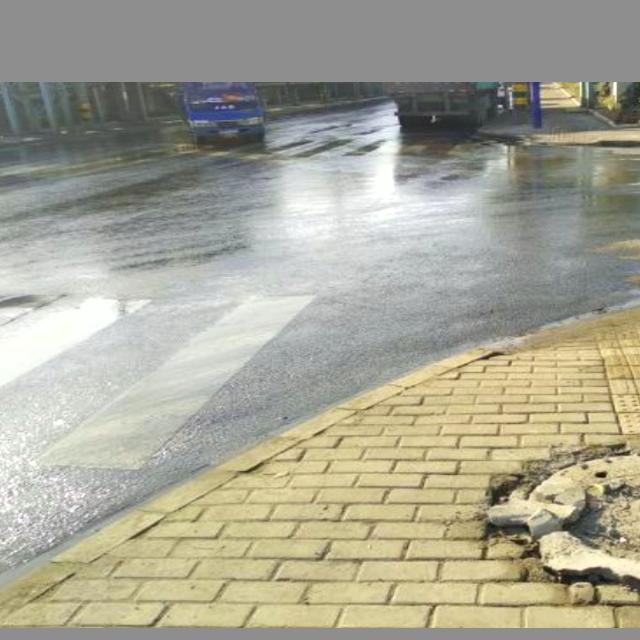circle: (484, 427, 640, 594)
